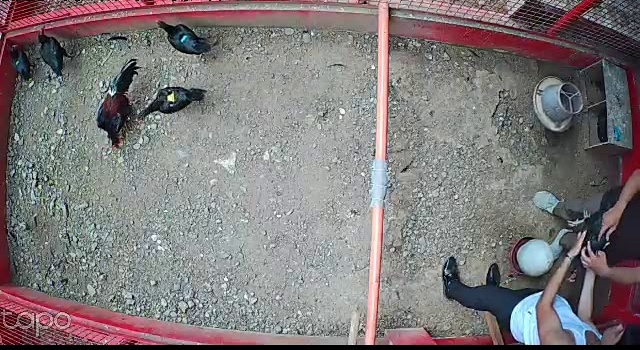Chicken: (136, 81, 202, 122), (34, 26, 79, 83), (154, 17, 215, 58), (7, 41, 39, 85)
Rooster: (95, 55, 145, 150)
Saddle_Color_Blue: (180, 34, 188, 43)
Saddle_Color_Yellow: (167, 91, 176, 103)
